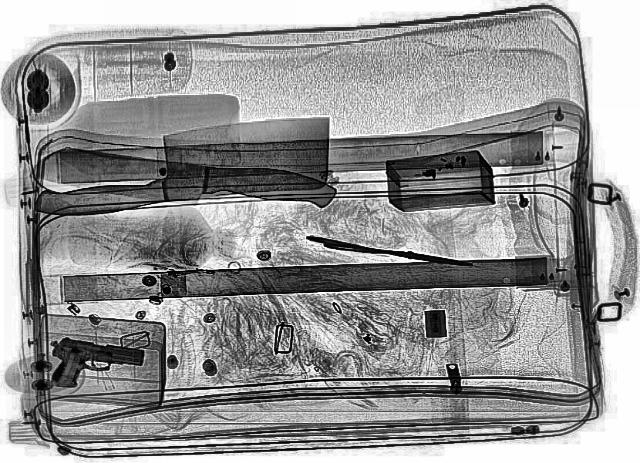Gun: (34, 333, 150, 401)
Knife: (13, 110, 347, 220), (21, 130, 343, 226)
